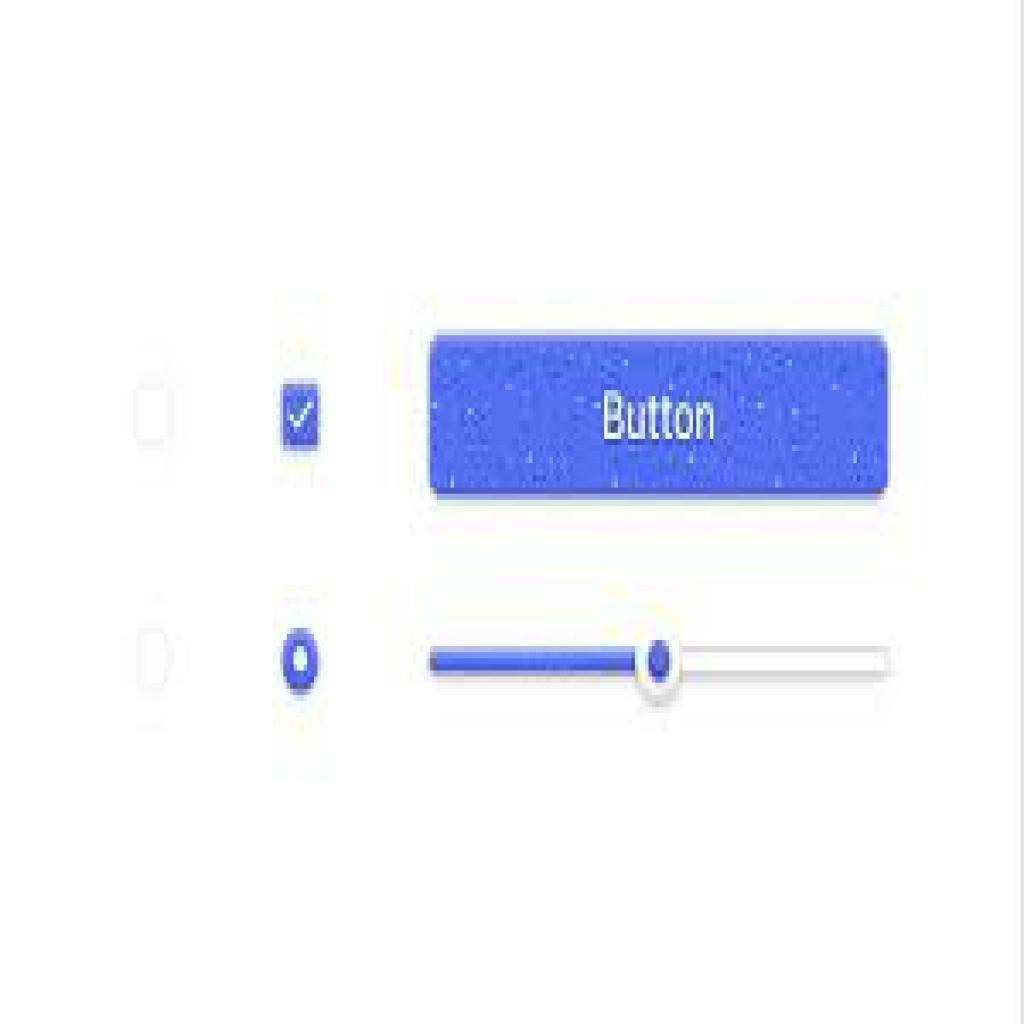checkbox: (131, 385, 176, 443), (282, 384, 322, 449)
radio: (270, 618, 324, 711), (124, 617, 180, 696)
slider: (424, 602, 906, 711)
